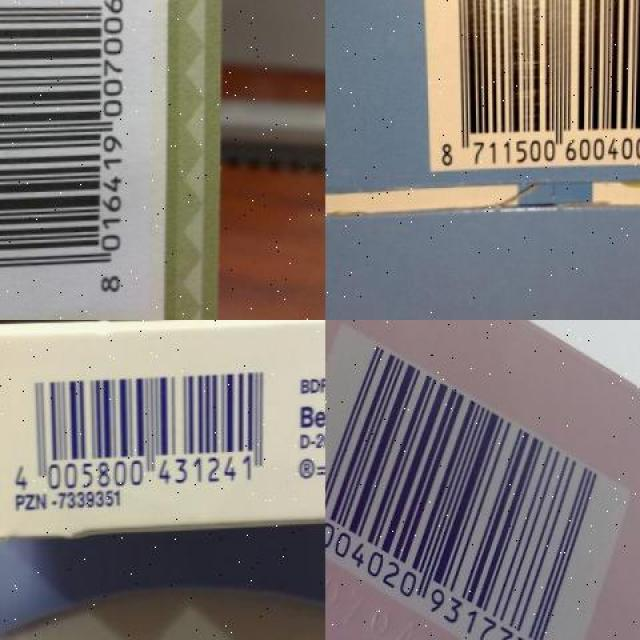Barcode: (325, 320, 635, 640), (0, 0, 149, 310), (3, 346, 280, 494), (421, 0, 639, 169)
